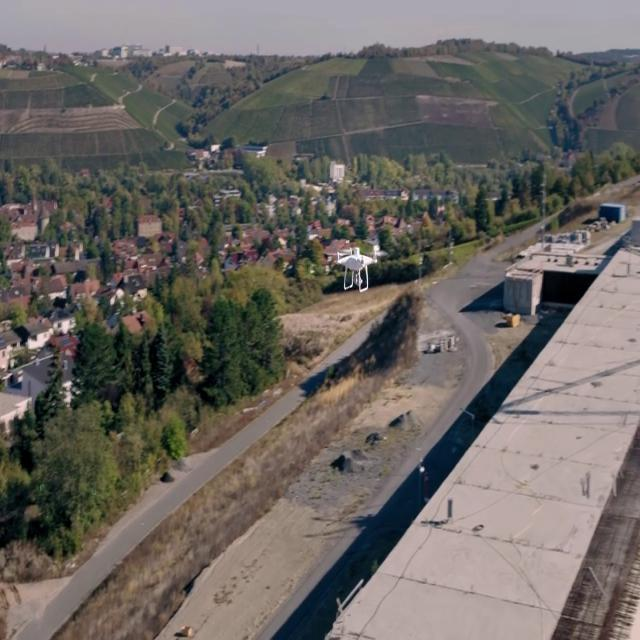drone: (327, 242, 389, 294)
